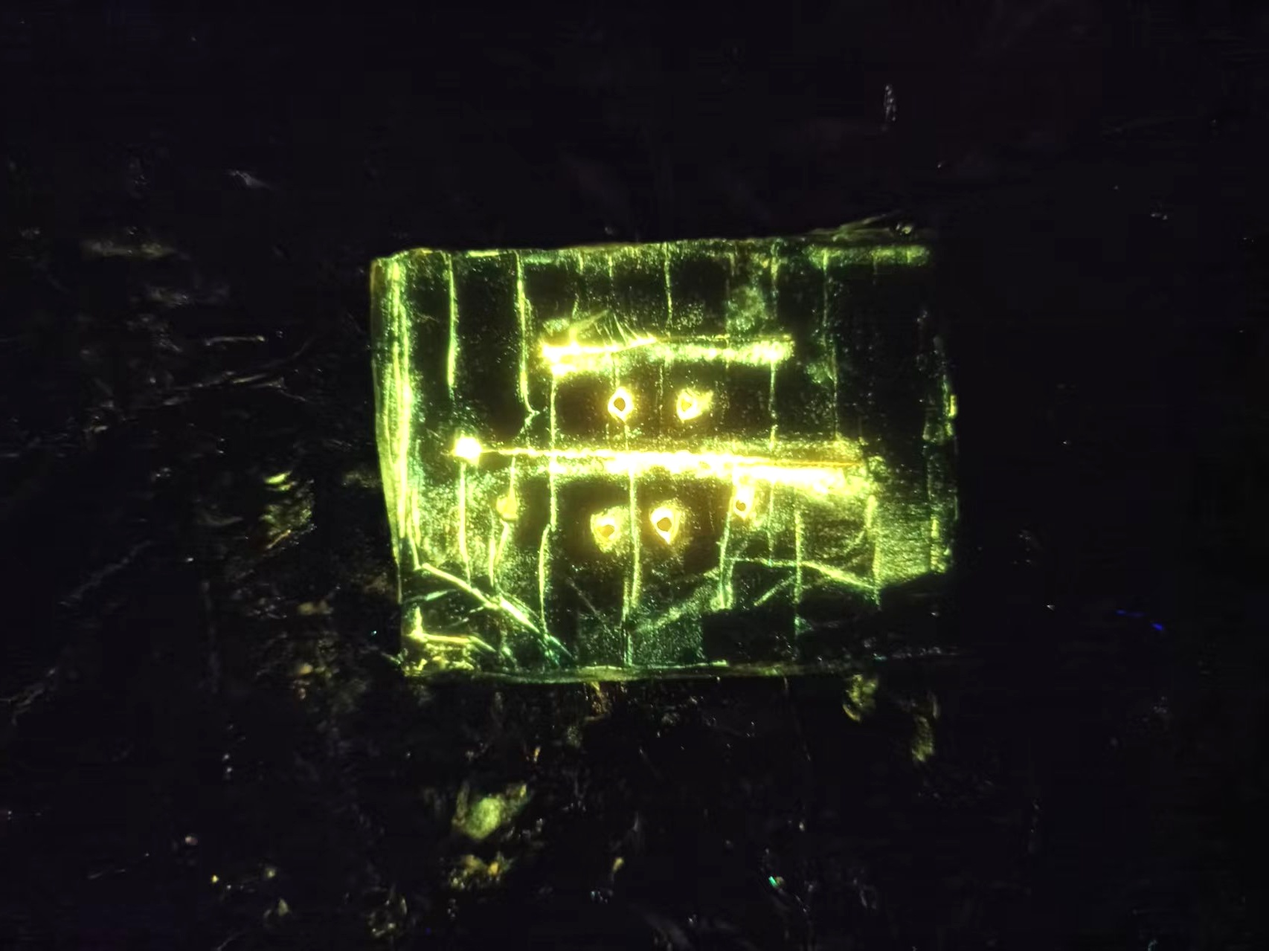Crater: (655, 366, 729, 427), (572, 496, 631, 560), (641, 491, 699, 551), (712, 486, 764, 536), (592, 376, 641, 428)
Fissure: (439, 418, 888, 494), (506, 309, 810, 383)
